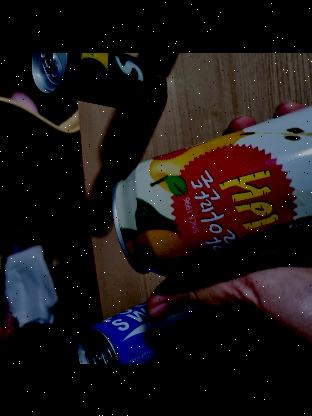Can: (112, 102, 312, 277), (30, 52, 168, 112)
